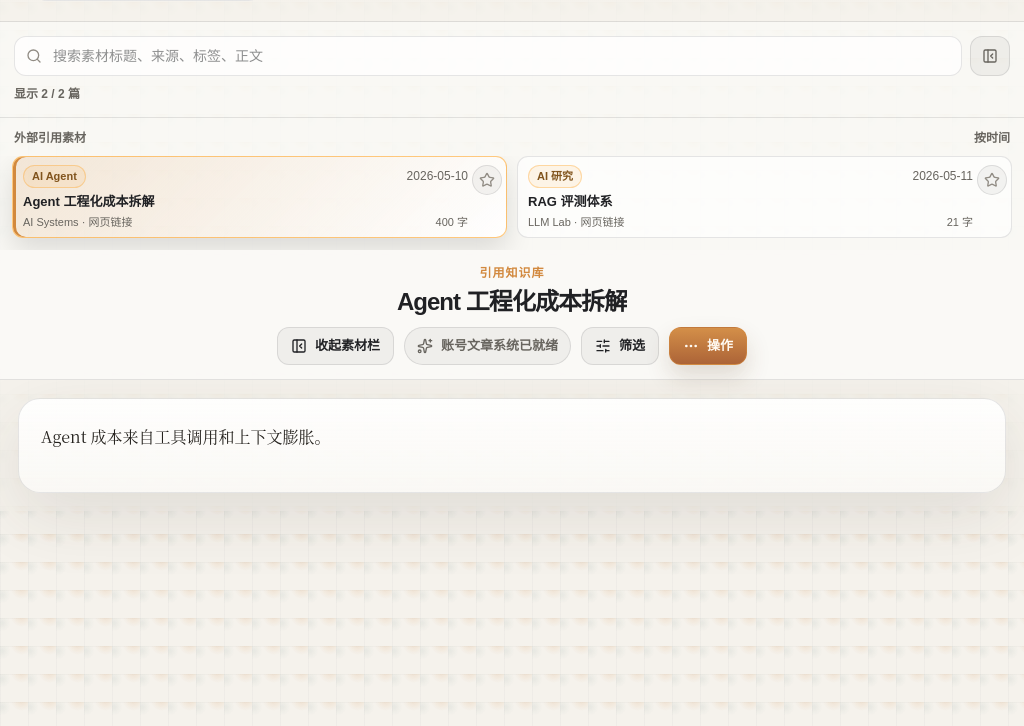
Test: Workbench › lets users favorite articles and filter the library to favorites
(page scrolled)
Click the button with aria-label "素材操作".
click(708, 346)  # box [669, 327, 747, 365]
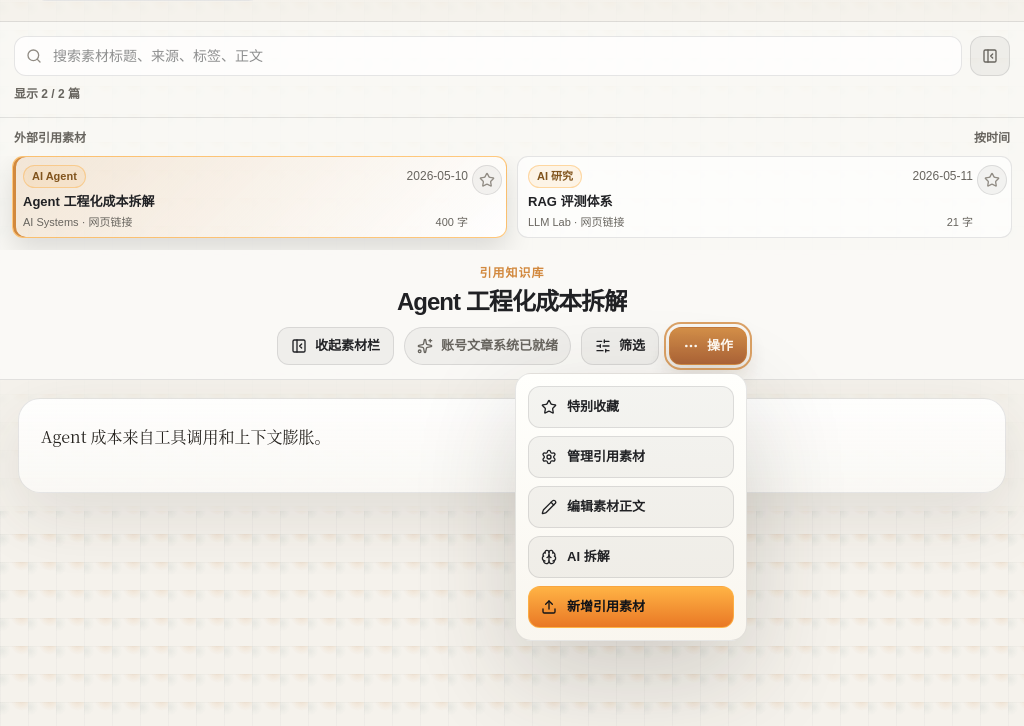
Click the button with aria-label "特别收藏当前素材".
click(631, 407)  # box [528, 386, 734, 428]
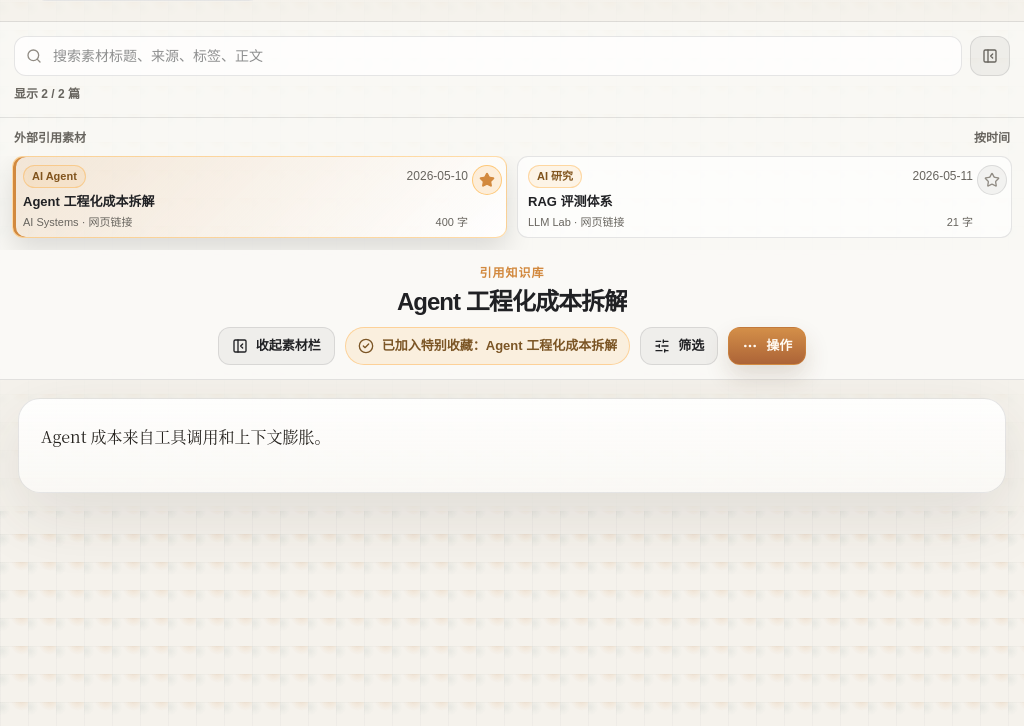
expect the text "已加入特别收藏：Agent 工程化成本拆解" is shown: met, box [382, 336, 617, 356]
Click the button with aria-label "素材操作".
click(767, 346)  # box [728, 327, 806, 365]
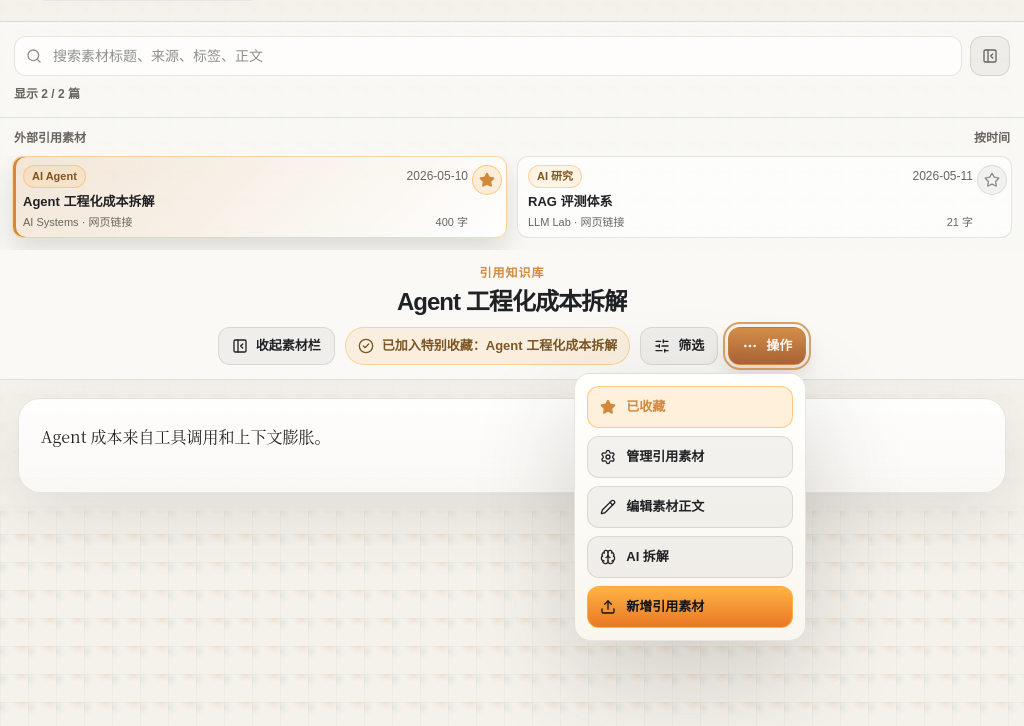
expect the button with aria-label "取消特别收藏当前素材" is shown: met, box [587, 386, 793, 428]
Click the button "筛选".
click(679, 346)  # box [640, 327, 718, 365]
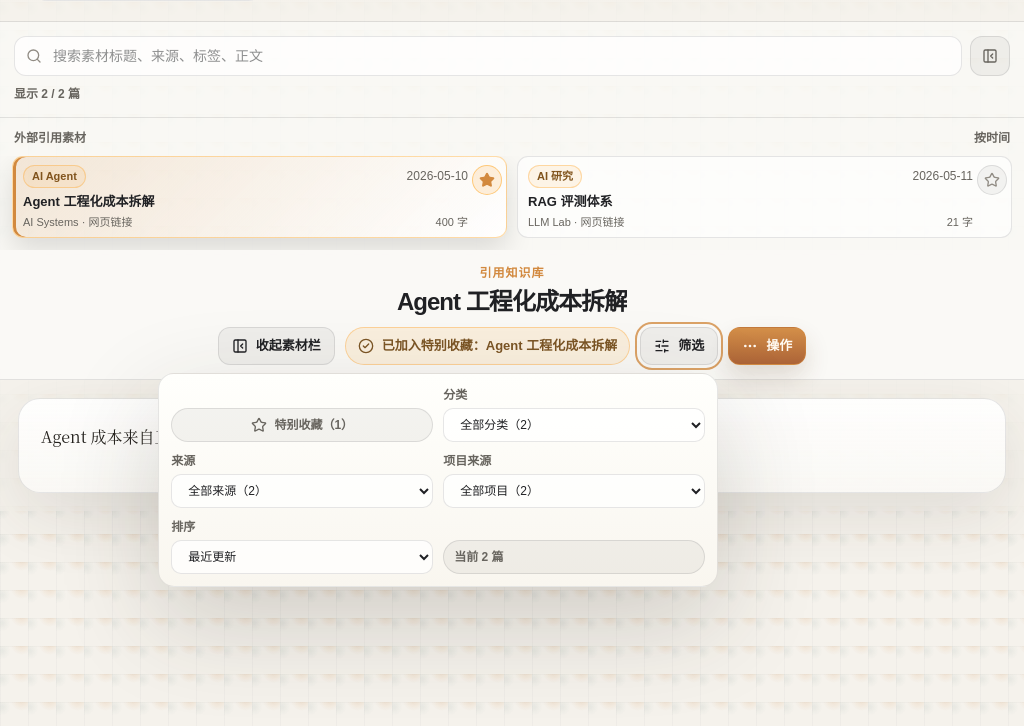
Click the button with aria-label "只看特别收藏".
click(302, 425)  # box [171, 408, 433, 442]
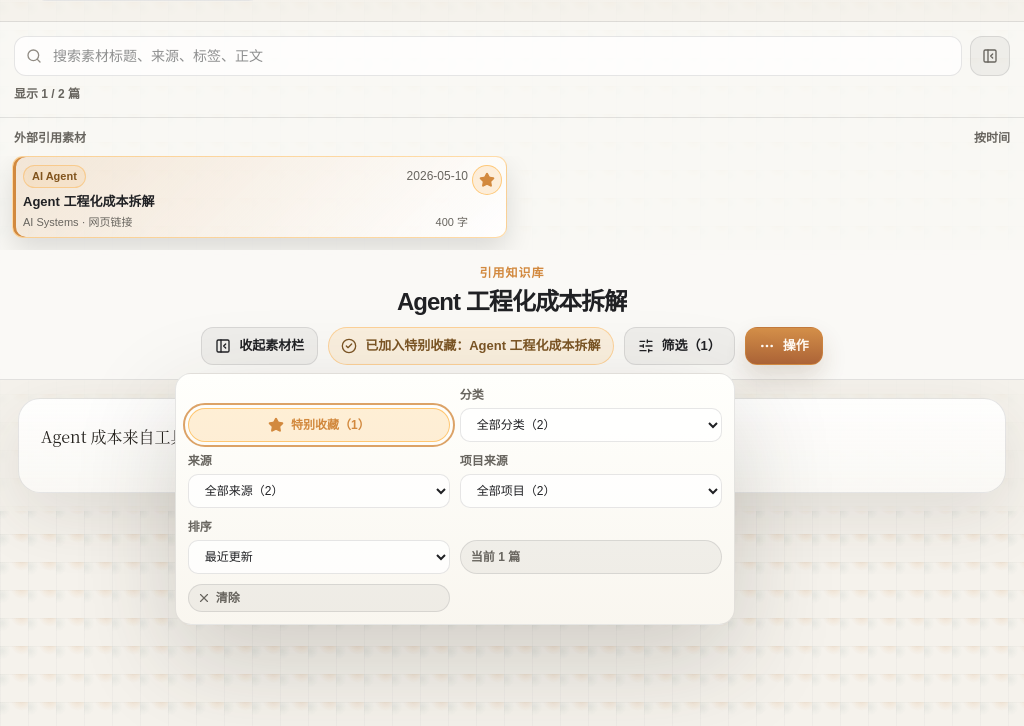
expect the heading "Agent 工程化成本拆解" is shown: met, box [397, 288, 627, 317]
expect the text "显示 1 / 2 篇" is shown: met, box [14, 85, 80, 103]
expect the button "RAG 评测体系" is gone: met
